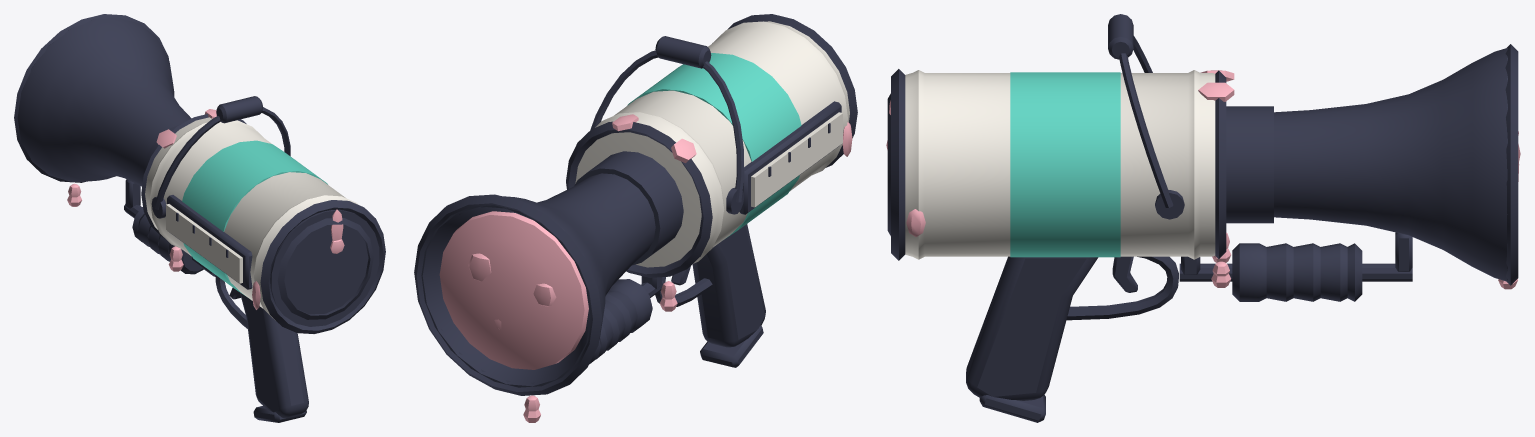
The model's file is weapon_splat_bucket_prop.glb.
3 views of the same model, side by side, from view 1: azimuth 30°, elevation 25°; view 2: azimuth 150°, elevation 25°; view 3: azimuth 270°, elevation 25° (orthographic). The views are drawn at different scales.
Parts seen in each view (by area): view 1: SplatBucketMesh; view 2: SplatBucketMesh; view 3: SplatBucketMesh.
Boxes of the visible parts, bbox=[...] form: SplatBucketMesh: bbox=[14, 14, 385, 422]; SplatBucketMesh: bbox=[414, 14, 857, 422]; SplatBucketMesh: bbox=[886, 14, 1520, 422].
Bounding box in the file's own units: 0.1974 × 0.3504 × 0.5175.
